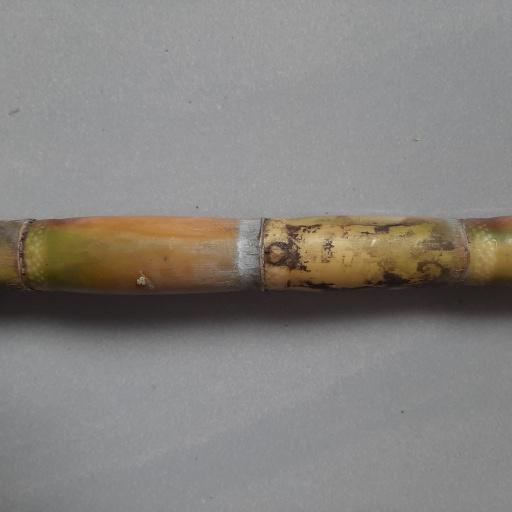Bud: (266, 241, 290, 267)
